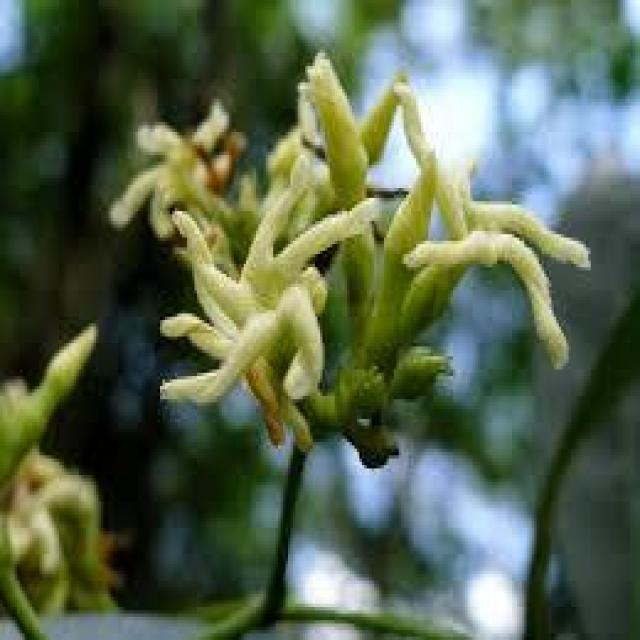organic waste: (387, 76, 603, 383), (149, 182, 365, 422)
